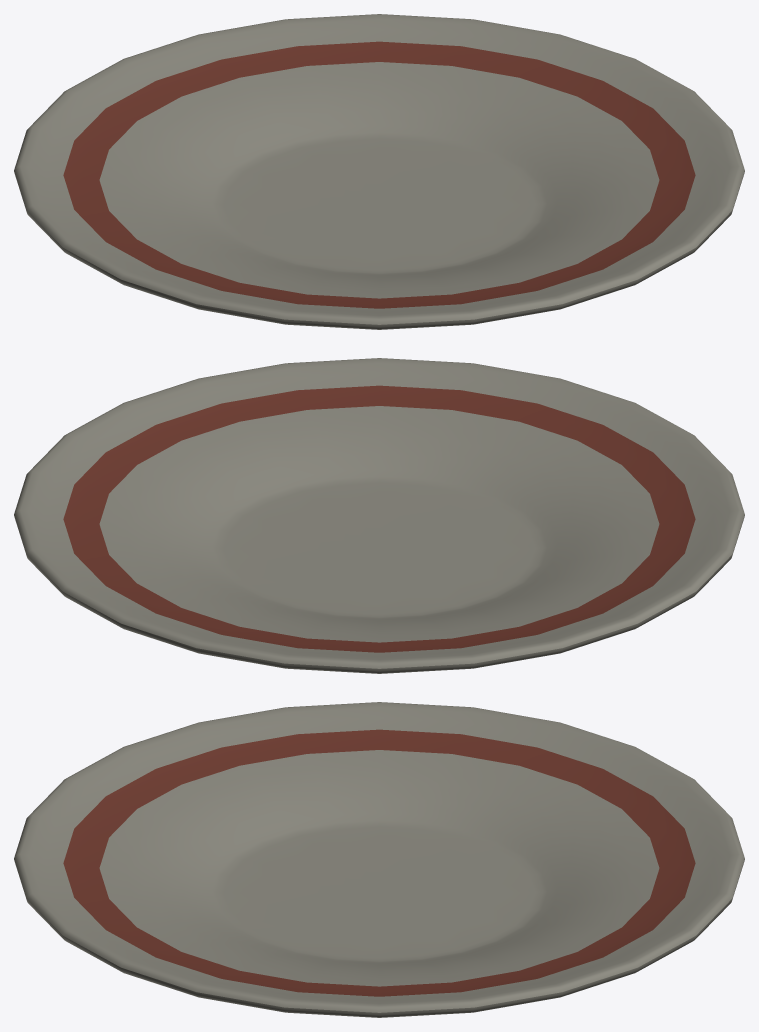
File: plate.fbx
The picture shows the model from 3 angles, top to bottom: view 1: azimuth 30°, elevation 25°; view 2: azimuth 150°, elevation 25°; view 3: azimuth 270°, elevation 25°; orthographic projection.
Visible parts, largest first — view 1: plate; view 2: plate; view 3: plate.
Part boxes in pixels (left/top/right/bottom): plate: left=14, top=14, right=744, bottom=329; plate: left=14, top=358, right=744, bottom=673; plate: left=14, top=702, right=744, bottom=1017.
Size of the model in its own units: 0.2522 by 0.2522 by 0.0196.
